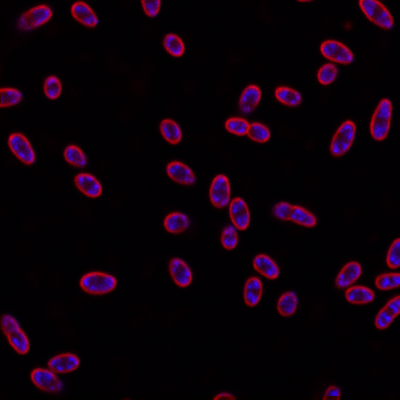MP265: (223, 115, 272, 144), (326, 119, 357, 158), (367, 98, 395, 141), (317, 38, 354, 66), (78, 270, 118, 295), (206, 173, 232, 210), (43, 350, 81, 375), (6, 132, 35, 164), (228, 193, 252, 231), (166, 256, 194, 288), (250, 251, 280, 280), (68, 1, 99, 29), (73, 171, 103, 199), (242, 276, 264, 308), (157, 117, 182, 145), (342, 284, 375, 305), (274, 84, 302, 107), (161, 32, 185, 57), (43, 74, 63, 100)
Oblique: (269, 200, 319, 229), (2, 312, 31, 357), (15, 4, 54, 33), (28, 366, 65, 393), (334, 260, 364, 292), (164, 159, 196, 188), (236, 84, 263, 115), (161, 211, 192, 236), (274, 290, 300, 318), (61, 144, 89, 169), (315, 60, 339, 87), (219, 222, 240, 250)
